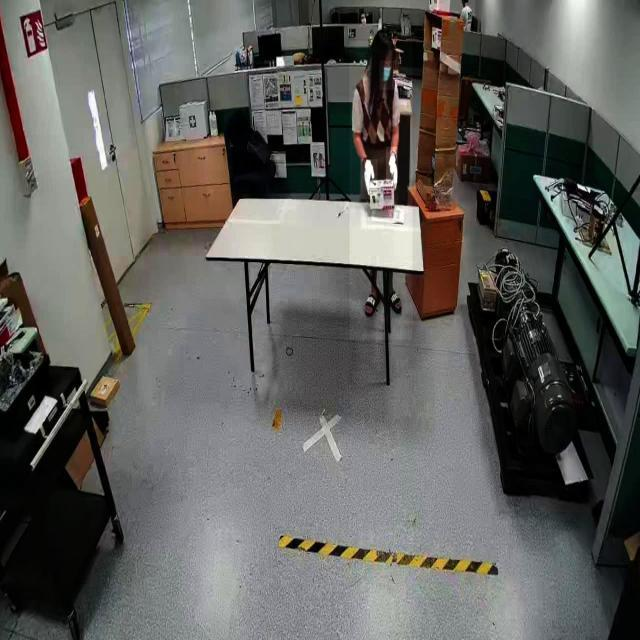gloves: (360, 159, 378, 199), (386, 146, 398, 184)
